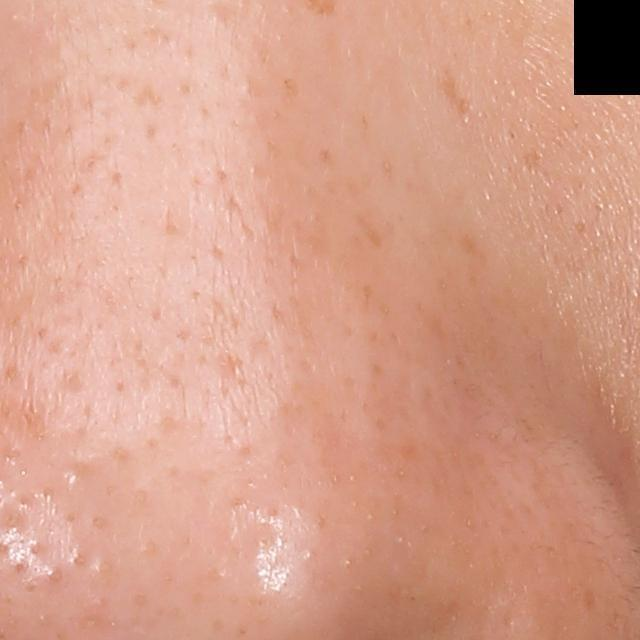melasma: (427, 58, 482, 129)
